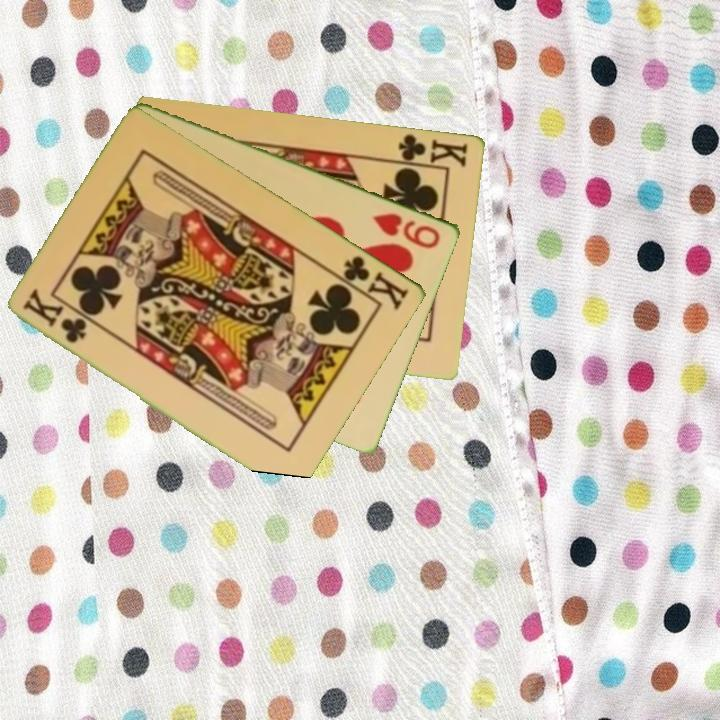9h: (369, 209, 444, 252)
Kc: (330, 251, 412, 313), (19, 288, 90, 346), (388, 130, 471, 170)
